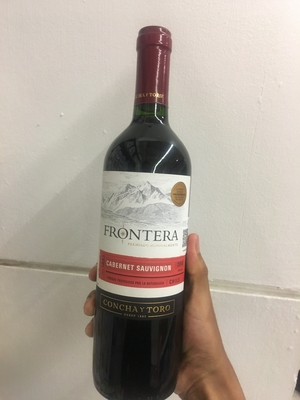frontera cabernet sauvignon: (94, 33, 195, 395)
